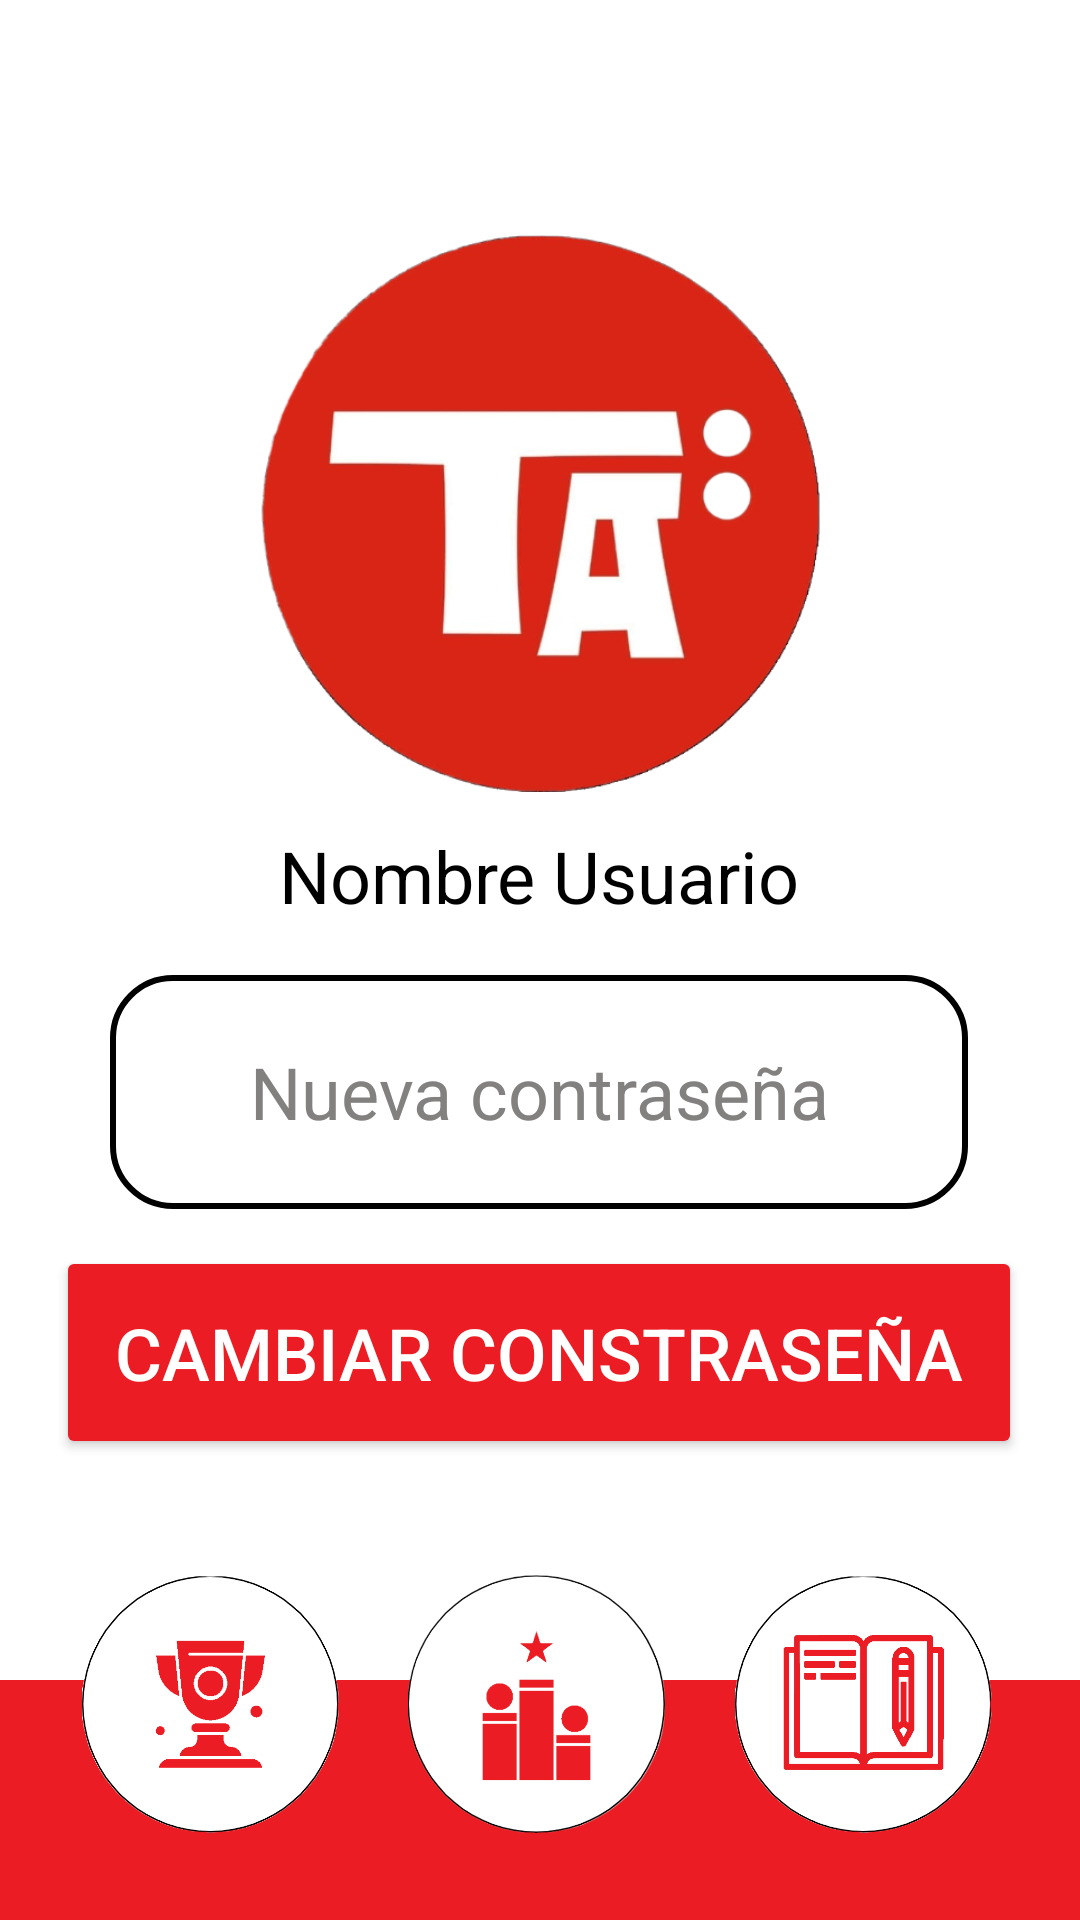

Icon click points for this 1080px x 1920px phone screenshot, format (x=x, y=y):
actividades: (x=863, y=1704)
ranking: (x=536, y=1704)
trofeo: (x=210, y=1704)
